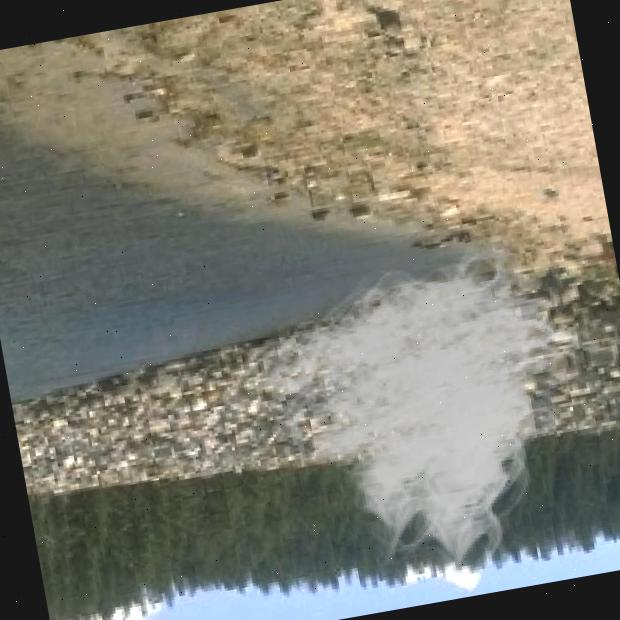smoke: (196, 214, 620, 620)
